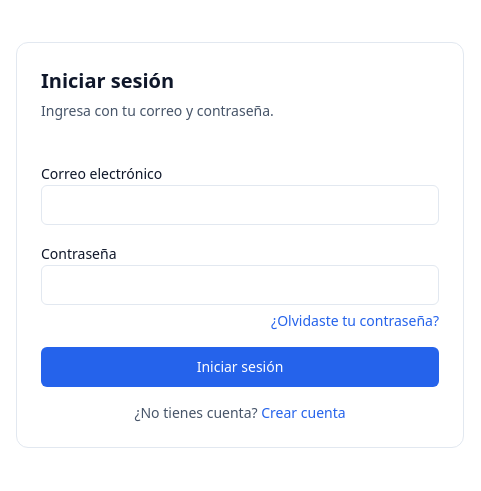
Test case: LoginPage › validates on submit without hitting the API
The width and height of the screenshot is (481, 491).
Click the button "Iniciar sesión": (240, 367) [41,347,439,387]
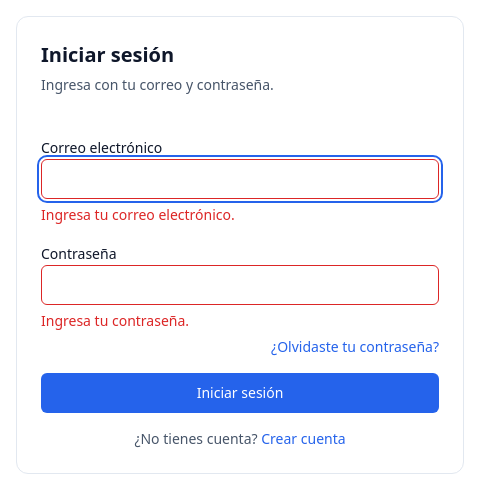
Expected: the text "Ingresa tu correo electrónico." is shown, [41,205,235,224]
Expected: the text "Ingresa tu contraseña." is shown, [41,311,189,330]
